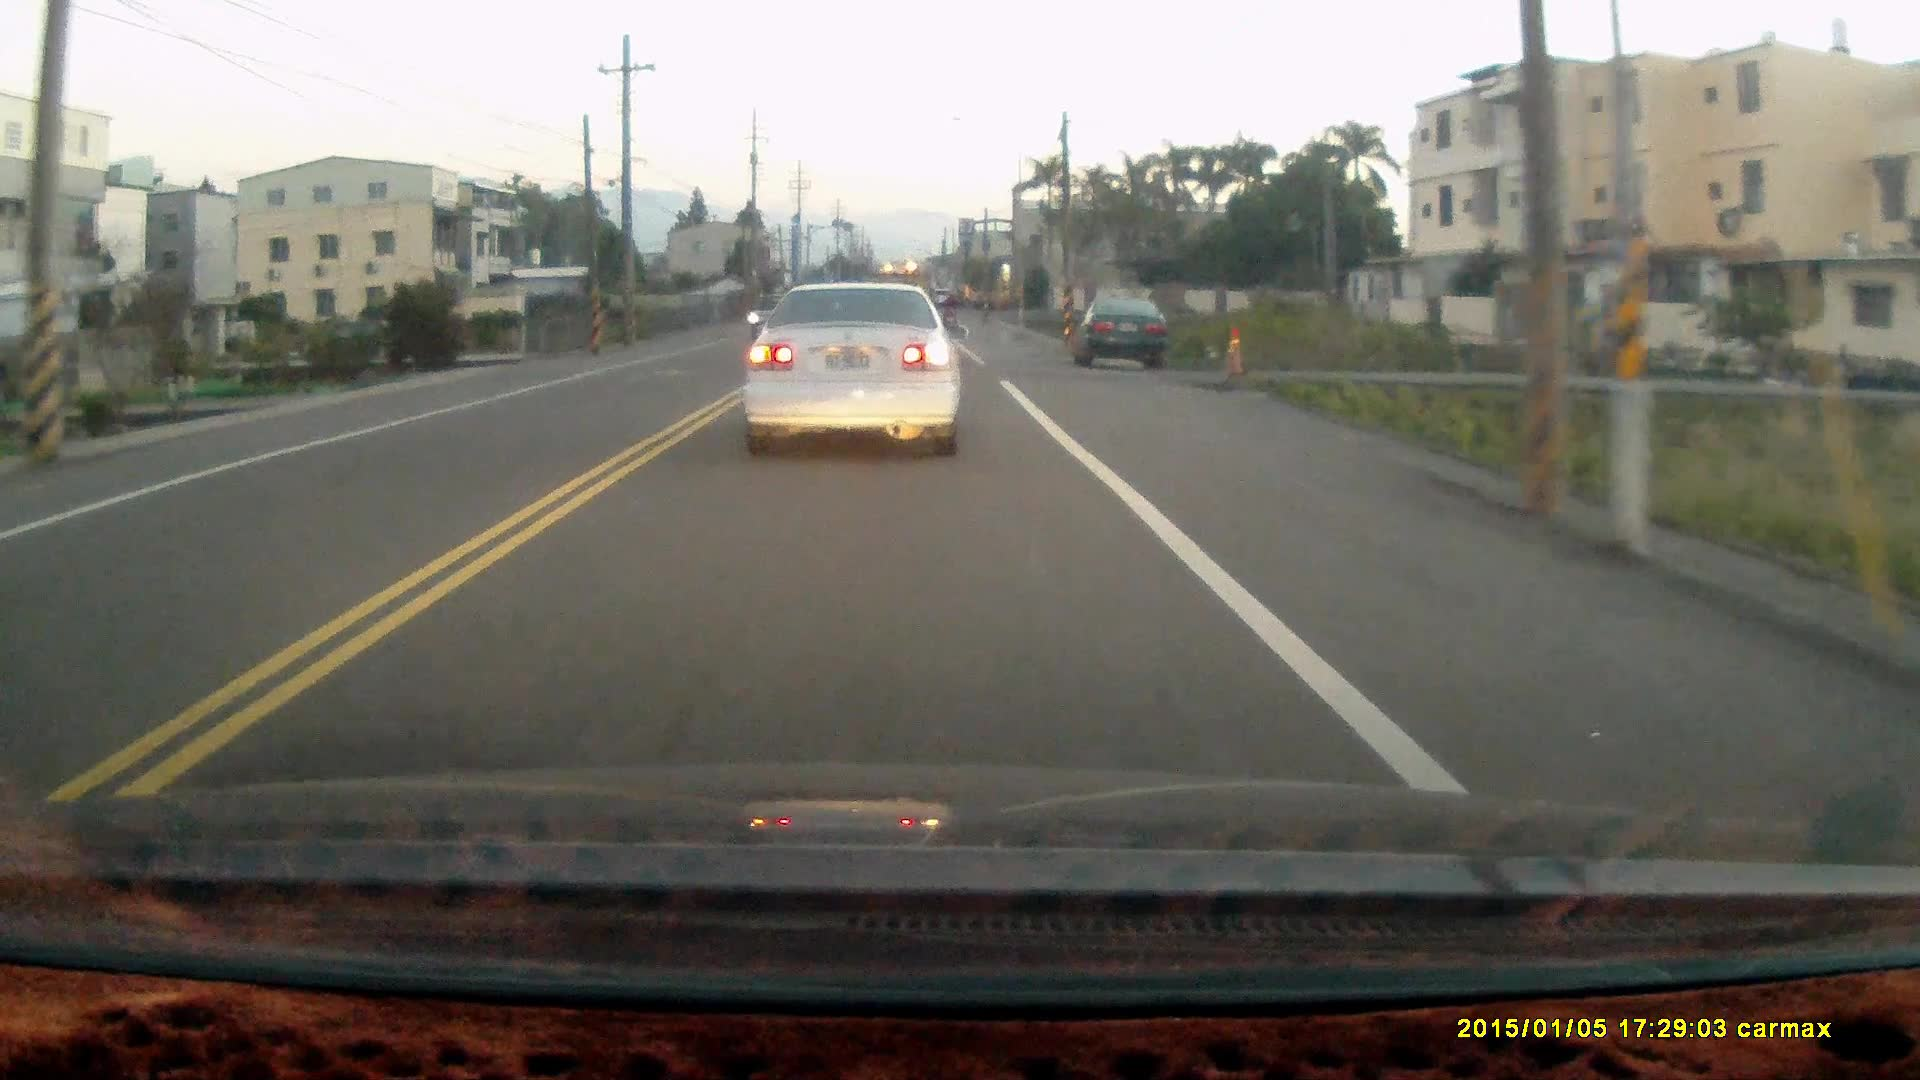vehicle: (742, 278, 965, 462), (1073, 291, 1168, 367), (746, 293, 803, 343)
